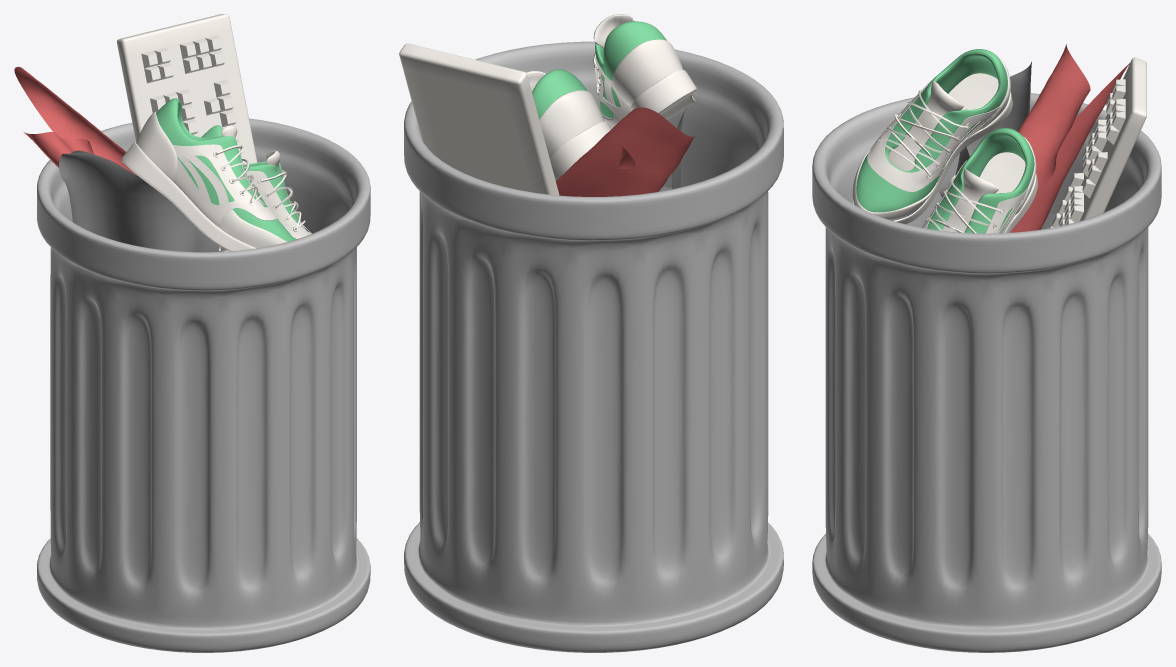
Rendered from 2 - BIN PBR.glb.
3 renders of one model, left to right at view 1: azimuth 30°, elevation 25°; view 2: azimuth 150°, elevation 25°; view 3: azimuth 270°, elevation 25°, orthographic. The views are drawn at different scales.
Parts seen in each view (by area): view 1: bin, keyboard, Shoe_Plane.003-PBR.1, Plane.2, Shoe_Plane.003-PBR.5, Plane.1; view 2: bin, keyboard, Shoe_Plane.003-PBR.1, Plane.1, Shoe_Plane.003-PBR.5; view 3: bin, Shoe_Plane.003-PBR.1, Shoe_Plane.003-PBR.5, Plane.1, keyboard, Plane.2.
Boxes of the visible parts, bbox=[...] form: bin: bbox=[37, 118, 370, 652]; keyboard: bbox=[117, 14, 257, 251]; Shoe_Plane.003-PBR.1: bbox=[121, 112, 311, 251]; Plane.2: bbox=[59, 150, 219, 252]; Shoe_Plane.003-PBR.5: bbox=[156, 98, 306, 241]; Plane.1: bbox=[14, 66, 136, 175]; bin: bbox=[404, 41, 783, 652]; keyboard: bbox=[399, 43, 559, 195]; Shoe_Plane.003-PBR.1: bbox=[526, 14, 696, 180]; Plane.1: bbox=[556, 107, 695, 196]; Shoe_Plane.003-PBR.5: bbox=[532, 20, 666, 119]; bin: bbox=[812, 93, 1161, 652]; Shoe_Plane.003-PBR.1: bbox=[852, 57, 1037, 233]; Shoe_Plane.003-PBR.5: bbox=[856, 49, 1034, 233]; Plane.1: bbox=[1010, 44, 1129, 232]; keyboard: bbox=[1050, 57, 1146, 227]; Plane.2: bbox=[938, 61, 1031, 197].
Bounding box in the file's own units: 215 × 353 × 215.
